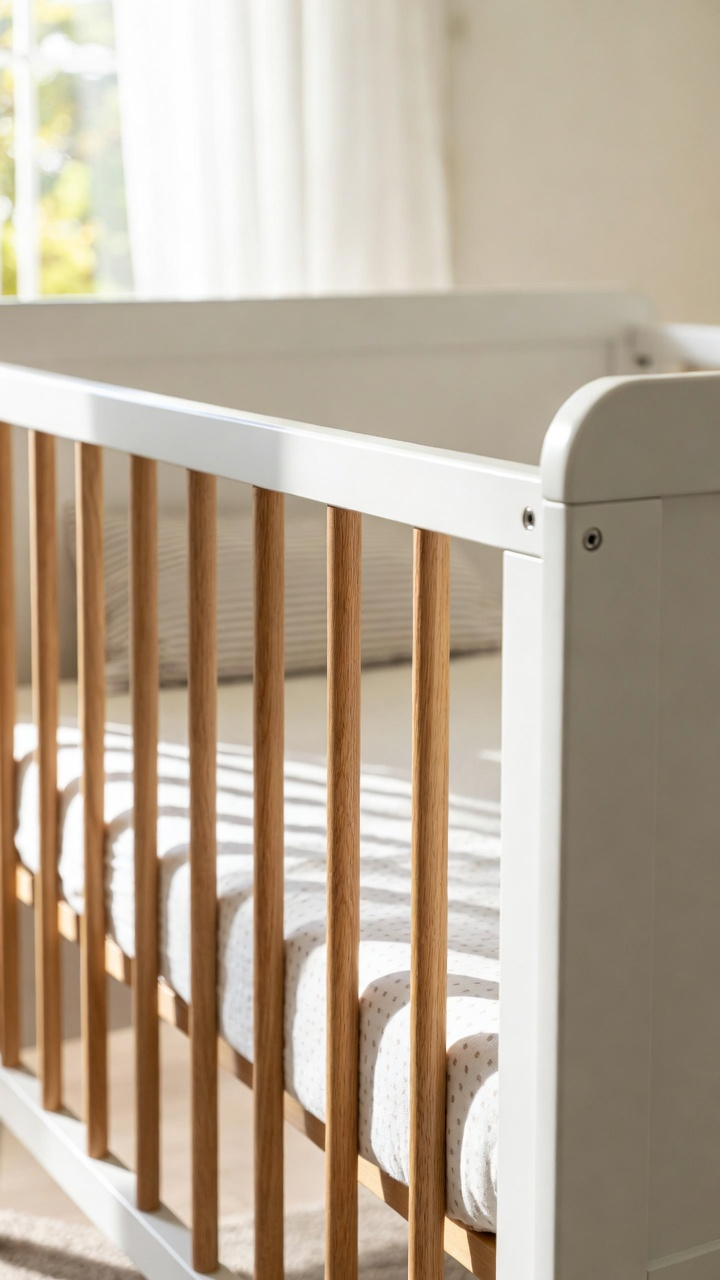crib: (0, 292, 719, 1279)
